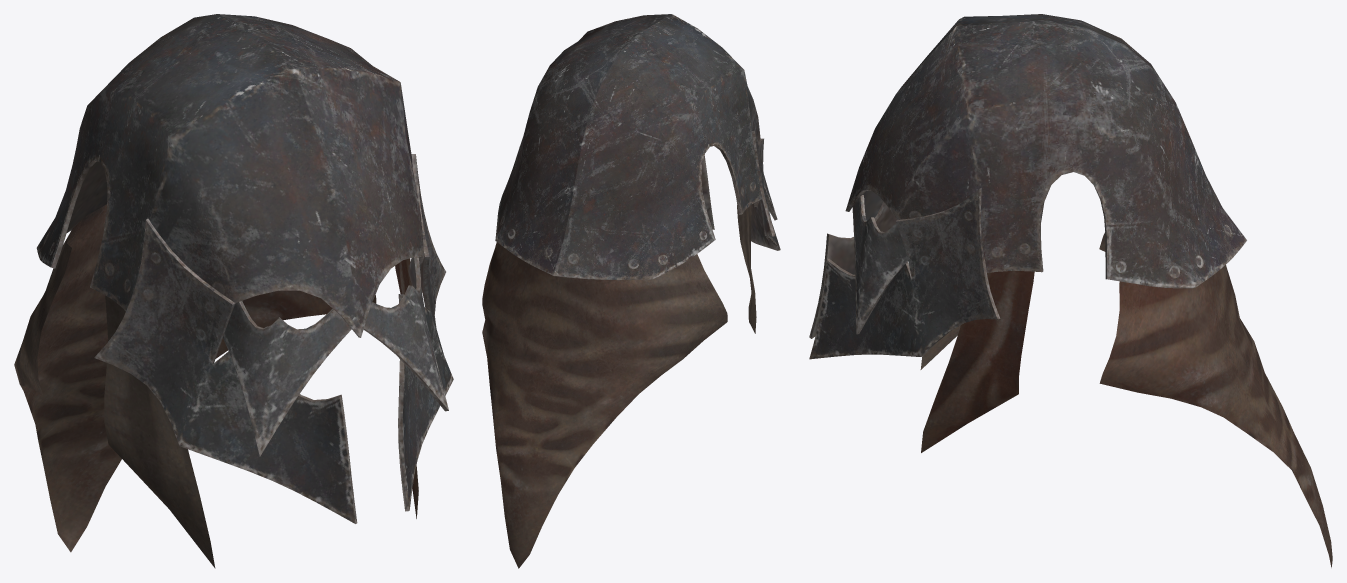
The model's file is sk_dg_uruk_helmet_elite_c.fbx.
3 views of the same model, side by side, from view 1: azimuth 30°, elevation 25°; view 2: azimuth 150°, elevation 25°; view 3: azimuth 270°, elevation 25° (orthographic). The views are drawn at different scales.
Parts seen in each view (by area): view 1: sk_dg_uruk_helmet_elite_c; view 2: sk_dg_uruk_helmet_elite_c; view 3: sk_dg_uruk_helmet_elite_c.
Boxes of the visible parts, x1,y1,x2,y2 form: sk_dg_uruk_helmet_elite_c: [14, 14, 453, 568]; sk_dg_uruk_helmet_elite_c: [482, 14, 780, 568]; sk_dg_uruk_helmet_elite_c: [809, 14, 1332, 567].
Bounding box in the file's own units: 0.2638 × 0.4054 × 0.4682.
Materials: 1 (1 with a texture image).
